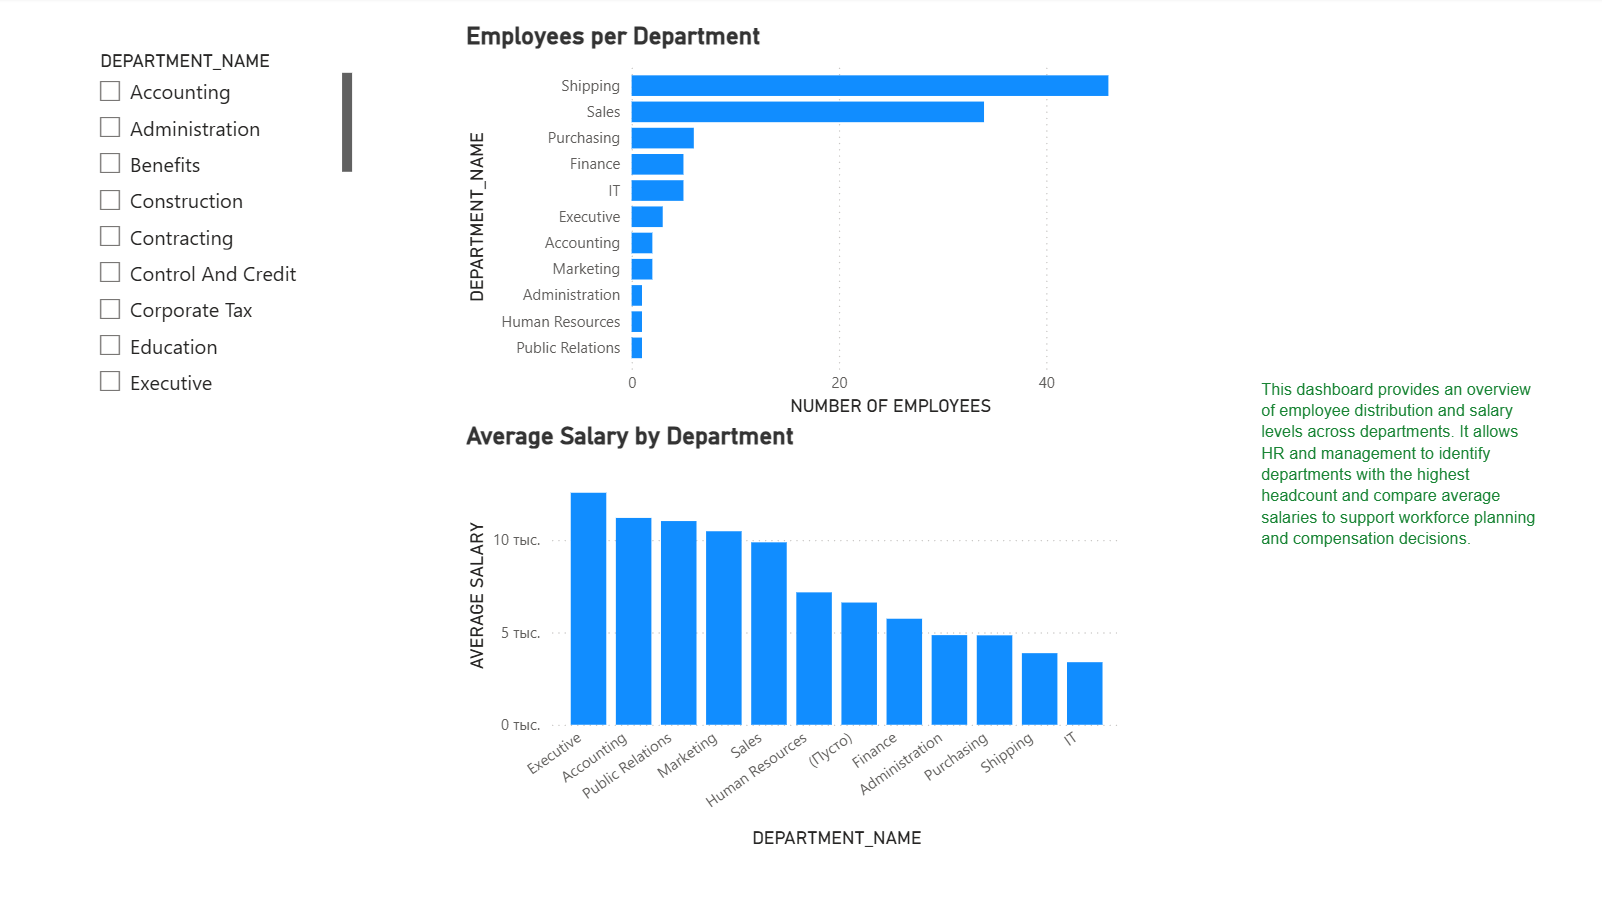

The dashboard page shown, as its layout file describes it:
{"tool":"powerbi","page":{"name":"Employees & Salary Overview by Department","canvas":[1280,720],"ordinal":0},"visuals":[{"type":"clusteredBarChart","title":"Employees per Department","fields":{"Category":["DEPAERTMENTS.DEPARTMENT_NAME"],"Y":["CountNonNull(EMPLOYEES.EMPLOYEE_ID)"]},"box":[367.7,18.8,562.7,319.8],"z":0},{"type":"clusteredColumnChart","title":"Average Salary by Department","fields":{"Category":["DEPAERTMENTS.DEPARTMENT_NAME"],"Y":["Avg(EMPLOYEES.SALARY)"]},"box":[367.7,338.6,532.7,345.5],"z":1000},{"type":"slicer","fields":{"Values":["DEPAERTMENTS.DEPARTMENT_NAME"]},"box":[67.6,37.6,218.9,282.2],"z":2000},{"type":"textbox","box":[1002.3,298.4,229.4,213],"z":3000}]}

Visuals, with their boxes in screenshot pixels (x1, y1, x2, y2), scaled from the page's 1280x720 canvas onto the 1602x899 screenshot:
"Employees per Department" clusteredBarChart: select_region(460, 23, 1164, 423)
"Average Salary by Department" clusteredColumnChart: select_region(460, 423, 1127, 854)
slicer - DEPAERTMENTS.DEPARTMENT_NAME: select_region(85, 47, 359, 399)
textbox: select_region(1254, 373, 1542, 639)
